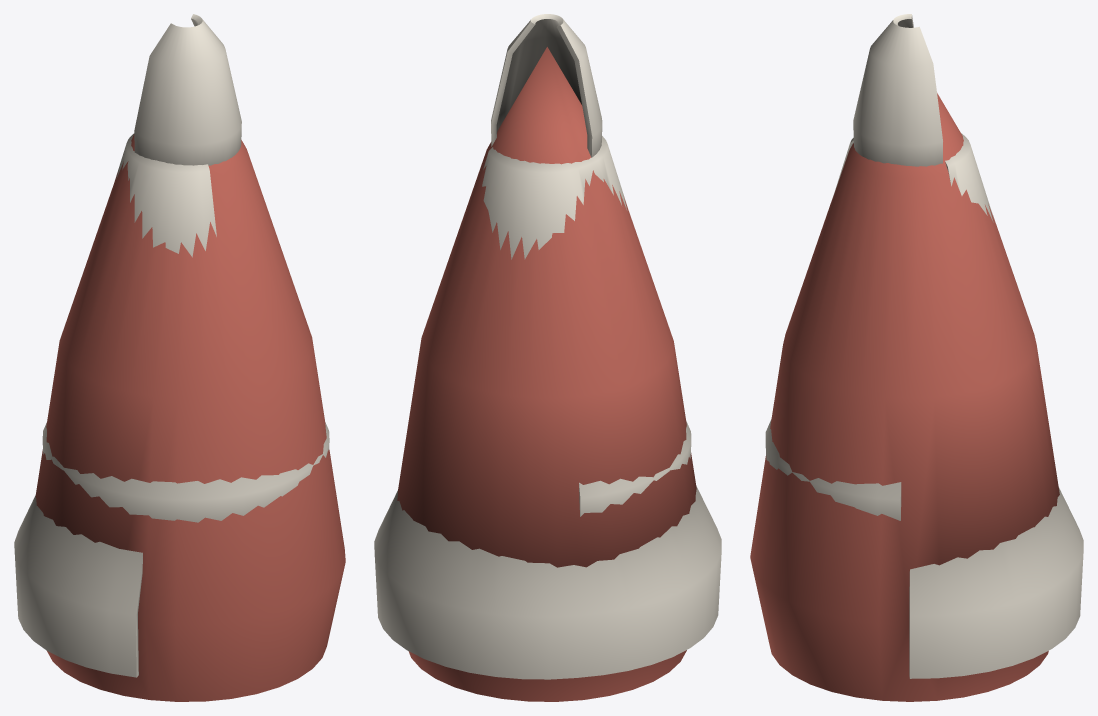
The model's file is food_bamboo.glb.
3 views of the same model, side by side, from view 1: azimuth 30°, elevation 25°; view 2: azimuth 150°, elevation 25°; view 3: azimuth 270°, elevation 25° (orthographic).
Visible parts, largest first — view 1: PART; view 2: PART; view 3: PART.
Boxes of the visible parts, x1=… form: PART: x1=14, y1=14, x2=345, y2=701; PART: x1=374, y1=14, x2=721, y2=701; PART: x1=750, y1=14, x2=1083, y2=701.
Size of the model in its own units: 0.1055 by 0.2102 by 0.1023.
